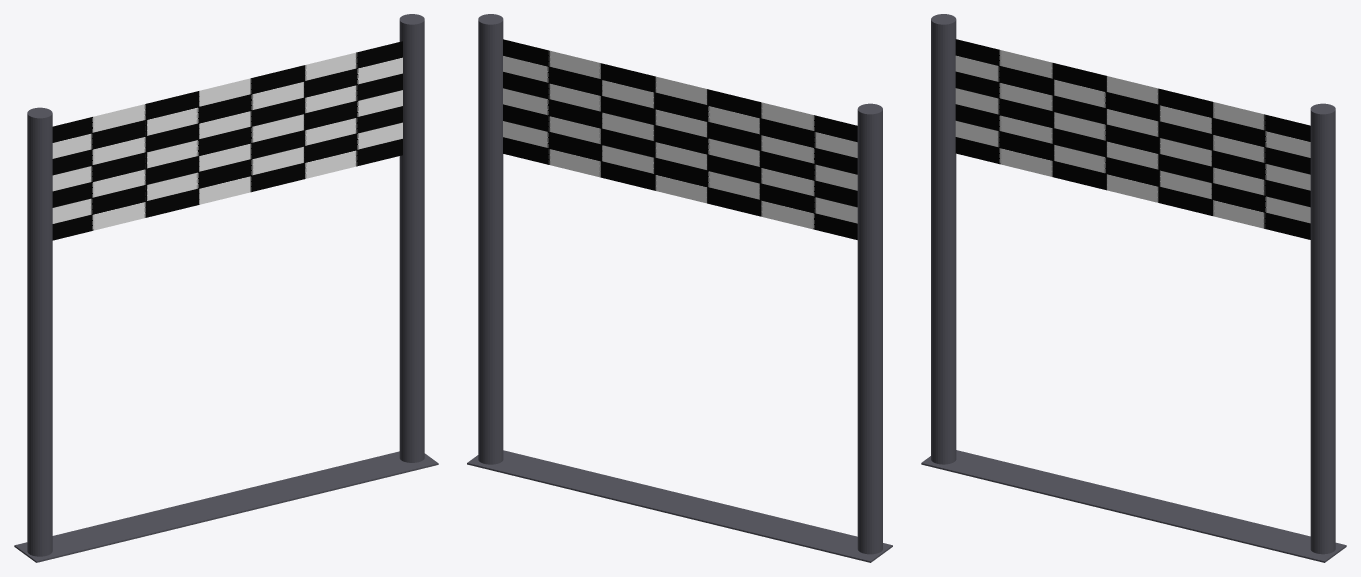
File: banner.glb
3 renders of one model, left to right at view 1: azimuth 30°, elevation 25°; view 2: azimuth 150°, elevation 25°; view 3: azimuth 330°, elevation 25°, orthographic.
Parts seen in each view (by area): view 1: banner, pole, checker_line; view 2: banner, pole, checker_line; view 3: banner, pole, checker_line.
Boxes of the visible parts, <box> form: banner: <box>52,41,402,240</box>; pole: <box>27,14,424,556</box>; checker_line: <box>14,451,438,562</box>; banner: <box>503,39,857,239</box>; pole: <box>478,14,882,554</box>; checker_line: <box>467,450,892,562</box>; banner: <box>955,39,1310,239</box>; pole: <box>931,14,1335,554</box>; checker_line: <box>921,450,1346,562</box>.
Bounding box in the file's own units: 7.38 × 7.72 × 0.6993.
3 materials, 3 textured.
